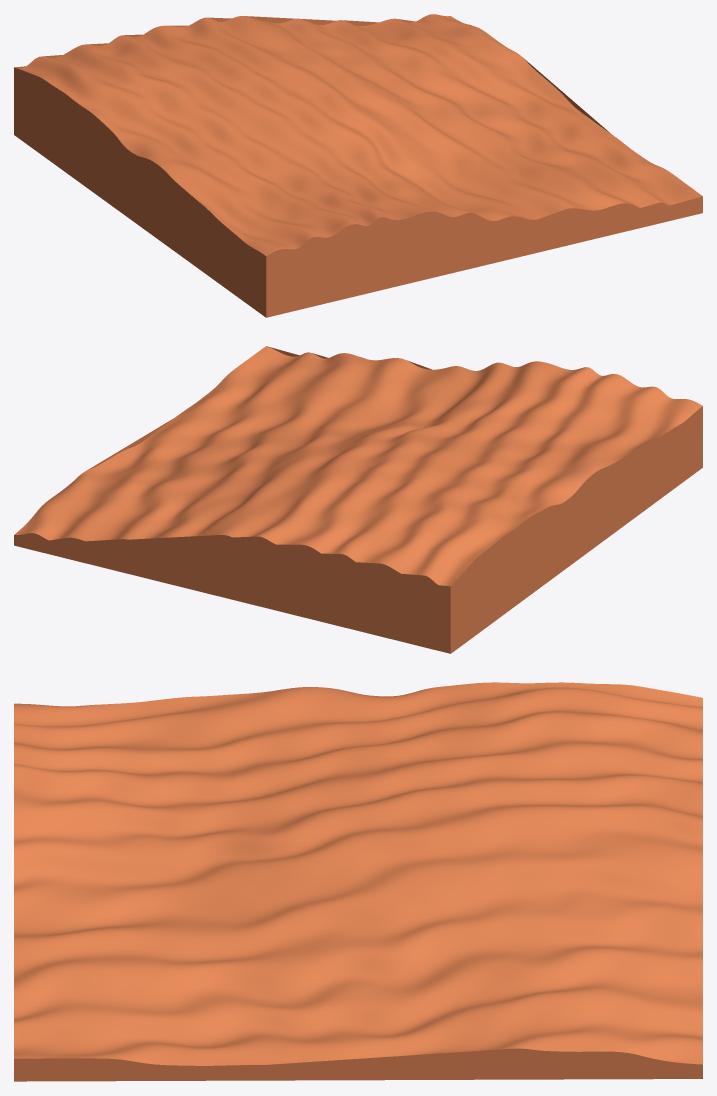
Rendered from Beachfromtutorial.fbx.
3 views of the same model, one above another, from view 1: azimuth 30°, elevation 25°; view 2: azimuth 150°, elevation 25°; view 3: azimuth 270°, elevation 25° (orthographic). The views are drawn at different scales.
Parts seen in each view (by area): view 1: Sand; view 2: Sand; view 3: Sand.
Boxes of the visible parts, left/top/right/bottom form: Sand: left=14, top=14, right=702, bottom=317; Sand: left=14, top=346, right=702, bottom=653; Sand: left=14, top=682, right=702, bottom=1081.
Size of the model in its own units: 800 by 152 by 800.
